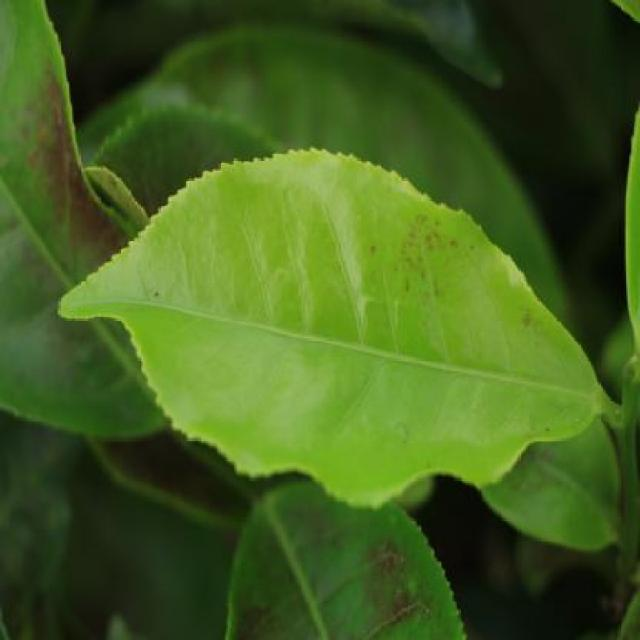Red Spider infested tea leaf: (314, 191, 598, 474), (2, 76, 175, 430)
